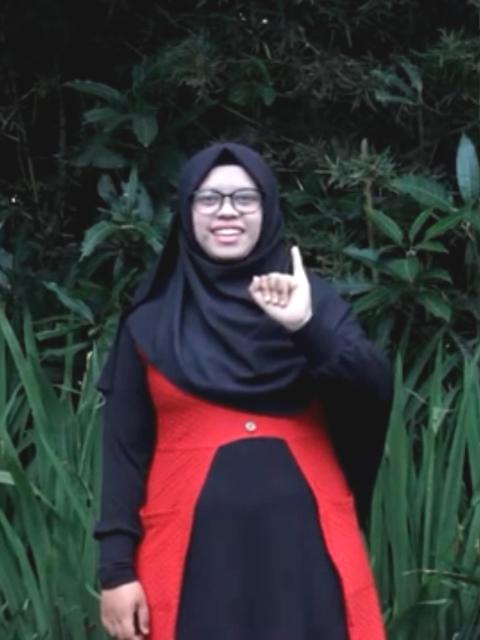I: (250, 246, 314, 334)
